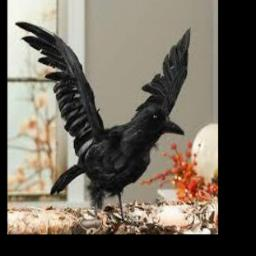Crow: (14, 20, 193, 221)
